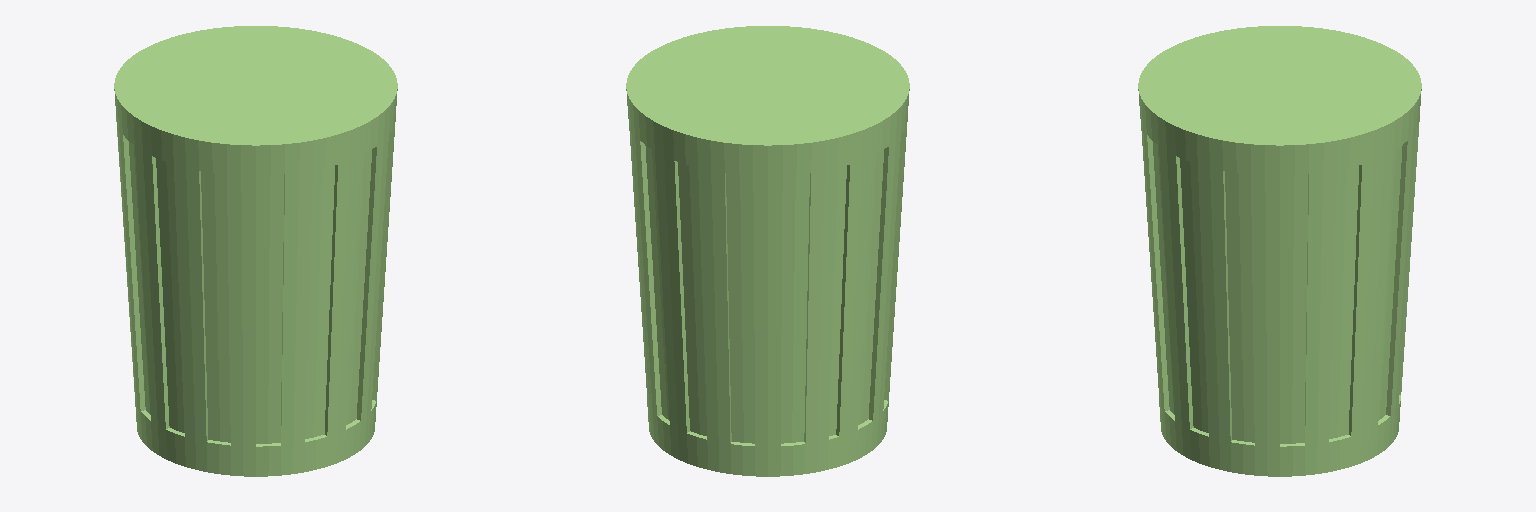
The model's file is trashcan.obj.
3 views of the same model, side by side, from view 1: azimuth 30°, elevation 25°; view 2: azimuth 150°, elevation 25°; view 3: azimuth 270°, elevation 25° (orthographic).
Parts seen in each view (by area): view 1: Trash_can_bottom; view 2: Trash_can_bottom; view 3: Trash_can_bottom.
Boxes of the visible parts, box(x1,y1,x2,y2) form: Trash_can_bottom: box(114, 26, 397, 476); Trash_can_bottom: box(626, 26, 909, 476); Trash_can_bottom: box(1138, 26, 1421, 476).
Size of the model in its own units: 129 by 171 by 129.